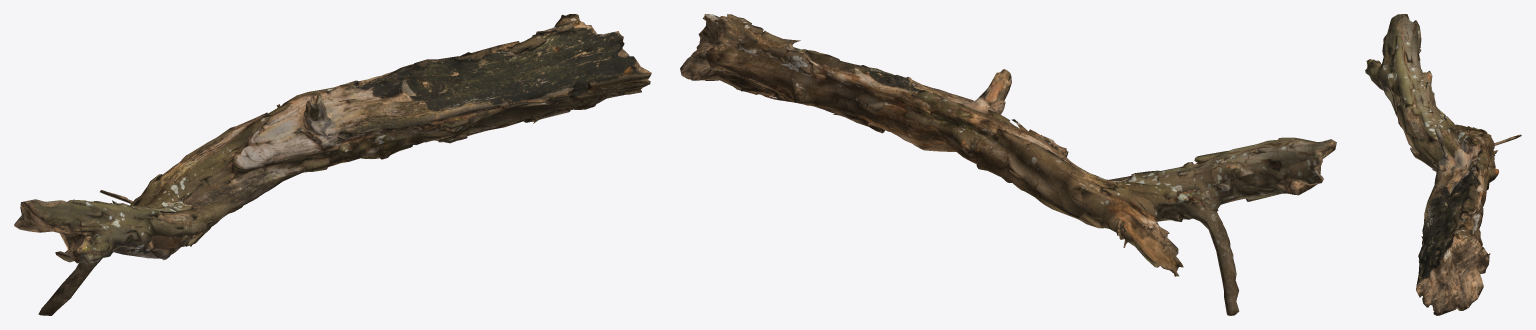
Rendered from dead_trunk.glb.
3 renders of one model, left to right at view 1: azimuth 30°, elevation 25°; view 2: azimuth 150°, elevation 25°; view 3: azimuth 270°, elevation 25°, orthographic. The views are drawn at different scales.
Visible parts, largest first — view 1: dead_tree_trunk_02; view 2: dead_tree_trunk_02; view 3: dead_tree_trunk_02.
Part boxes in pixels (x1,y1,x2,y2): dead_tree_trunk_02: (14, 14, 651, 315); dead_tree_trunk_02: (680, 14, 1336, 315); dead_tree_trunk_02: (1365, 14, 1521, 315).
Bounding box in the file's own units: 4.05 × 1.05 × 1.05.
Materials: 1 (1 with a texture image).
